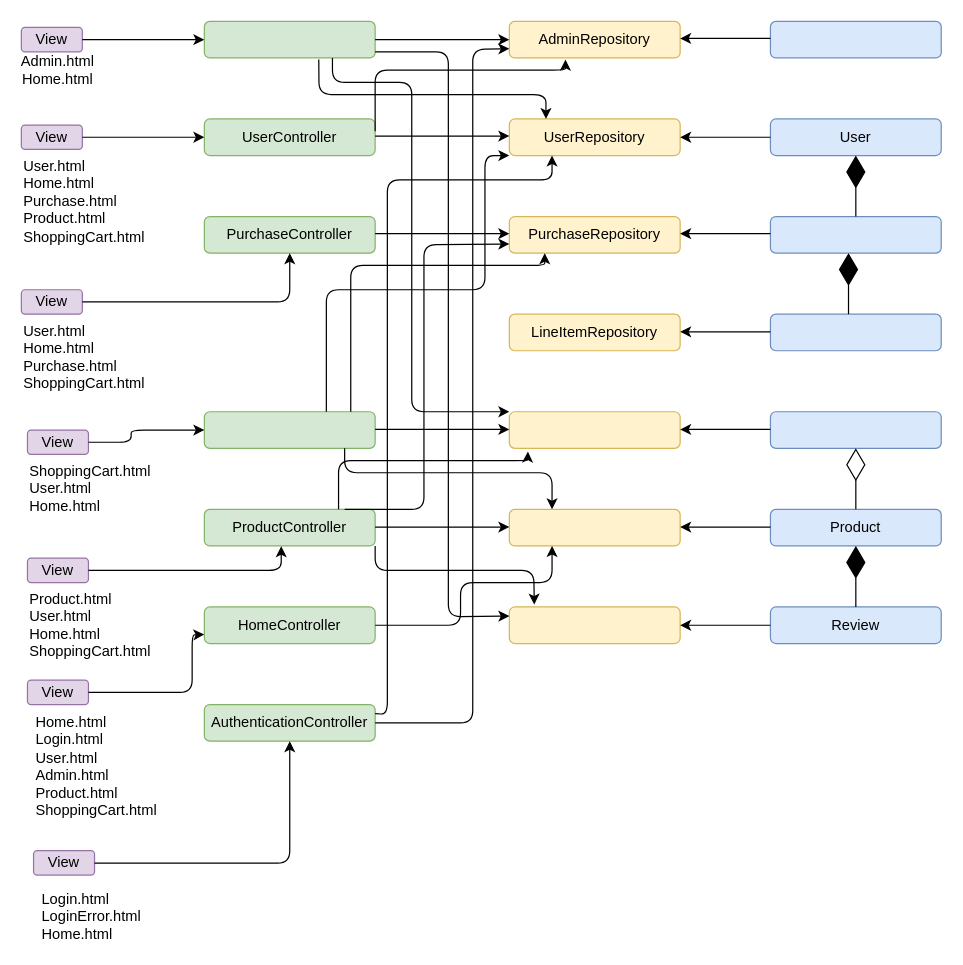
The diagram is 963 pixels wide and 965 high, and some of its shapes have lost their labels. Here are the shapes that lost their labels. From the top down, the box of each, then its label:
(203, 20, 375, 58): AdminController
(769, 20, 941, 58): Admin
(769, 215, 941, 253): Purchase
(769, 313, 941, 351): LineItem
(203, 411, 375, 448): ShoppingController
(508, 411, 680, 448): ShoppingCartRepository
(769, 411, 941, 448): ShoppingCart
(508, 508, 680, 546): ProductRepository
(508, 606, 680, 644): ReviewRepository
